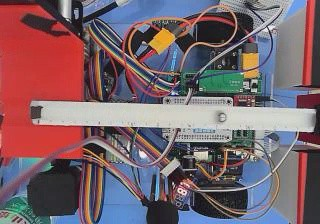ironball: (216, 111, 226, 122)
